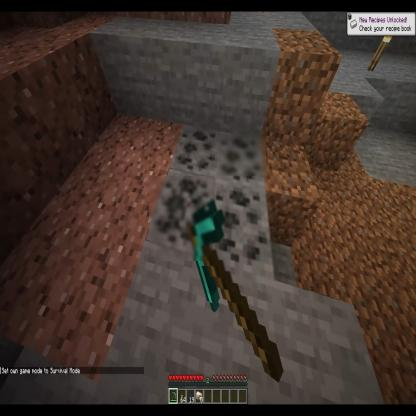coal ore: (212, 176, 278, 283), (150, 176, 214, 261), (173, 123, 215, 179), (217, 134, 266, 179)
